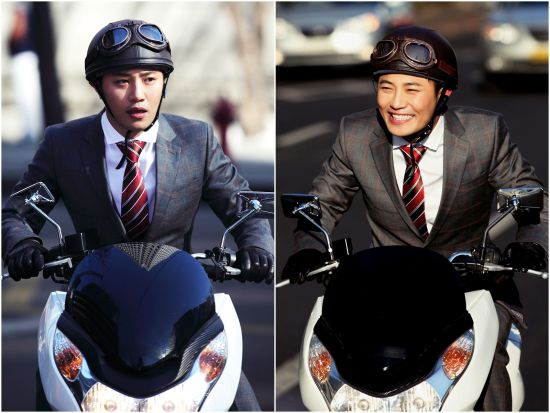helmet: (367, 29, 464, 88), (79, 18, 179, 70)
